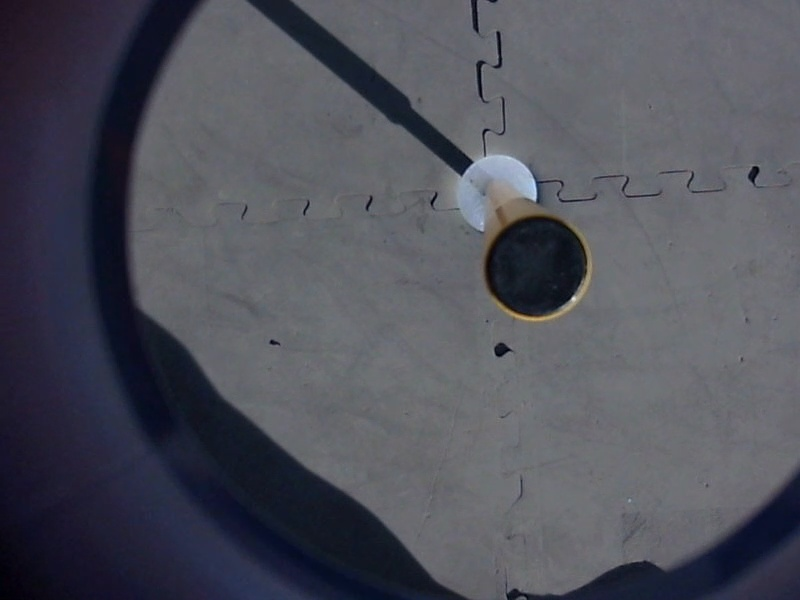tip: (479, 211, 597, 326)
